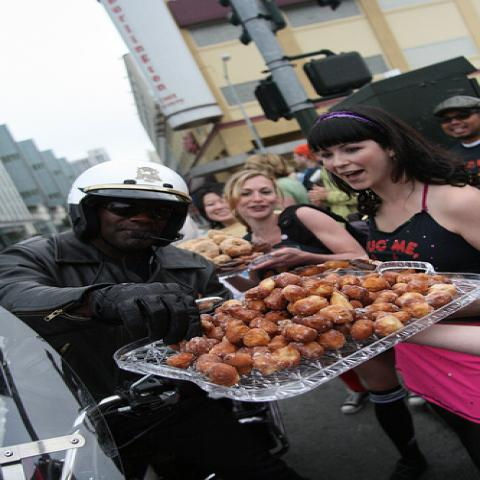motorcycle: (0, 308, 183, 474)
